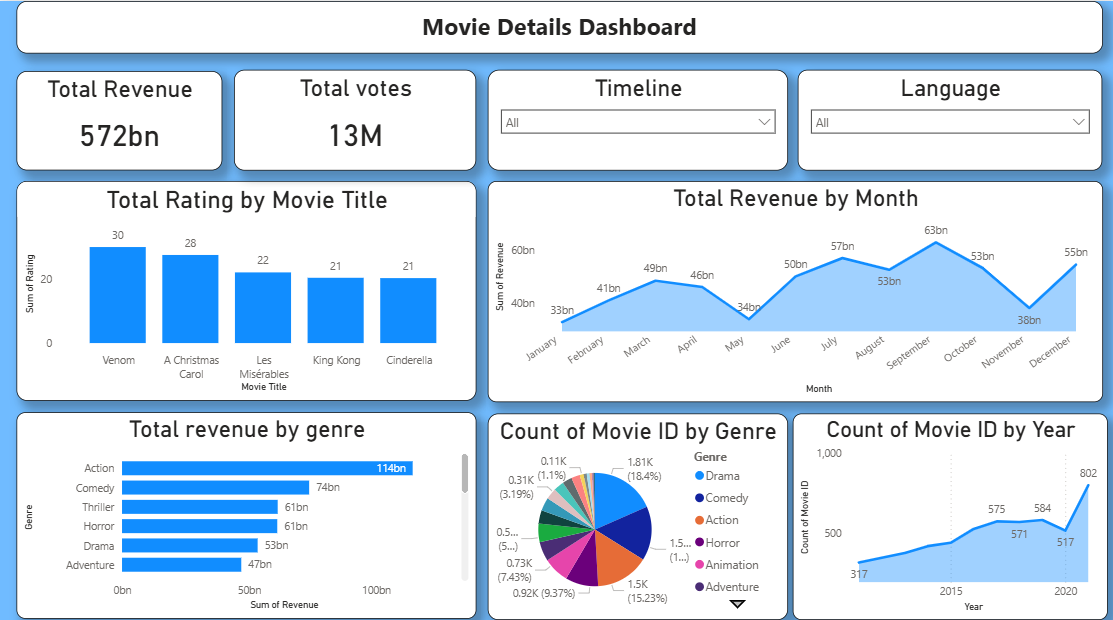

Layout of this report page (visuals, bound fields, positions):
{"tool":"powerbi","page":{"name":"Page 1","canvas":[1280,720],"ordinal":0},"visuals":[{"type":"textbox","box":[20,0,1241.4,60],"z":0},{"type":"card","title":"Total Revenue","fields":{"Values":["Sum(Movie_Details.Revenue)"]},"box":[20,80,235,113.3],"z":1000},{"type":"clusteredColumnChart","title":"Total Rating by Movie Title","fields":{"Category":["Movie_Details.Movie Title"],"Y":["Sum(Movie_Details.Rating)"]},"box":[20,205.7,525.7,251.4],"z":2000},{"type":"card","title":"Total votes","fields":{"Values":["Sum(Movie_Details.Vote_count)"]},"box":[268.3,78.3,276.7,115],"z":3000},{"type":"slicer","title":"Timeline","fields":{"Values":["Movie_Details.Release Date.Variation.Date Hierarchy.Year","Movie_Details.Release Date.Variation.Date Hierarchy.Quarter","Movie_Details.Release Date.Variation.Date Hierarchy.Month"]},"box":[558.3,78.3,343.3,115],"z":4000},{"type":"slicer","title":"Language","fields":{"Values":["Movie_Details.Original_language"]},"box":[913.3,78.3,348.3,115],"z":5000},{"type":"clusteredBarChart","title":"Total revenue by genre","fields":{"Category":["Movie_Details.Genre"],"Y":["Sum(Movie_Details.Revenue)"]},"box":[20,470,525.7,235.7],"z":6000},{"type":"lineChart","title":"Total Revenue by Month","fields":{"Category":["Movie_Details.Release Date.Variation.Date Hierarchy.Month"],"Y":["Sum(Movie_Details.Revenue)"]},"box":[558.6,205.7,702.9,252.9],"z":7000},{"type":"pieChart","fields":{"Category":["Movie_Details.Genre"],"Y":["Count(Movie_Details.Movie ID)"]},"box":[558.6,471.4,342.9,235.7],"z":8000},{"type":"lineChart","fields":{"Category":["Movie_Details.Release Date.Variation.Date Hierarchy.Year"],"Y":["Count(Movie_Details.Movie ID)"]},"box":[907.1,471.4,360,235.7],"z":9000}]}

Visuals, with their boxes in screenshot pixels (x1, y1, x2, y2), scaled from the page's 1280x720 canvas onto the 1113x620 screenshot:
textbox: select_region(17, 0, 1097, 52)
"Total Revenue" card: select_region(17, 69, 222, 166)
"Total Rating by Movie Title" clusteredColumnChart: select_region(17, 177, 475, 394)
"Total votes" card: select_region(233, 67, 474, 166)
"Timeline" slicer: select_region(485, 67, 784, 166)
"Language" slicer: select_region(794, 67, 1097, 166)
"Total revenue by genre" clusteredBarChart: select_region(17, 405, 475, 608)
"Total Revenue by Month" lineChart: select_region(486, 177, 1097, 395)
pieChart - Movie_Details.Genre x Count(Movie_Details.Movie ID): select_region(486, 406, 784, 609)
lineChart - Movie_Details.Release Date.Variation.Date Hierarchy.Year x Count(Movie_Details.Movie ID): select_region(789, 406, 1102, 609)
